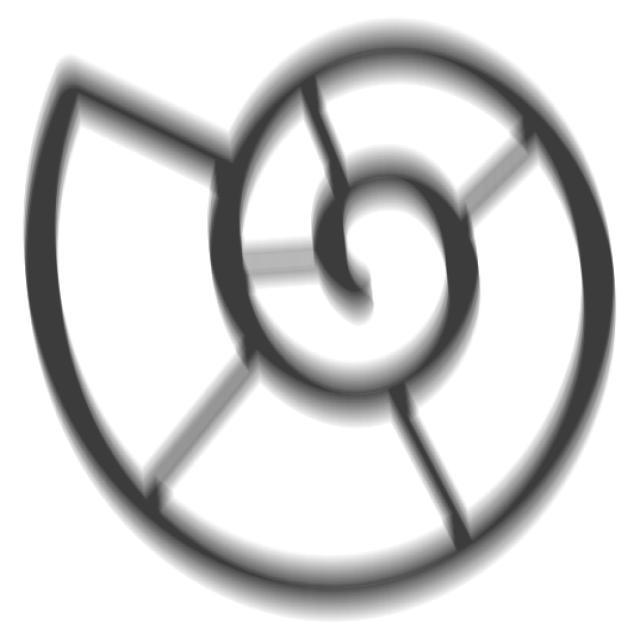fossil: (14, 16, 626, 633)
